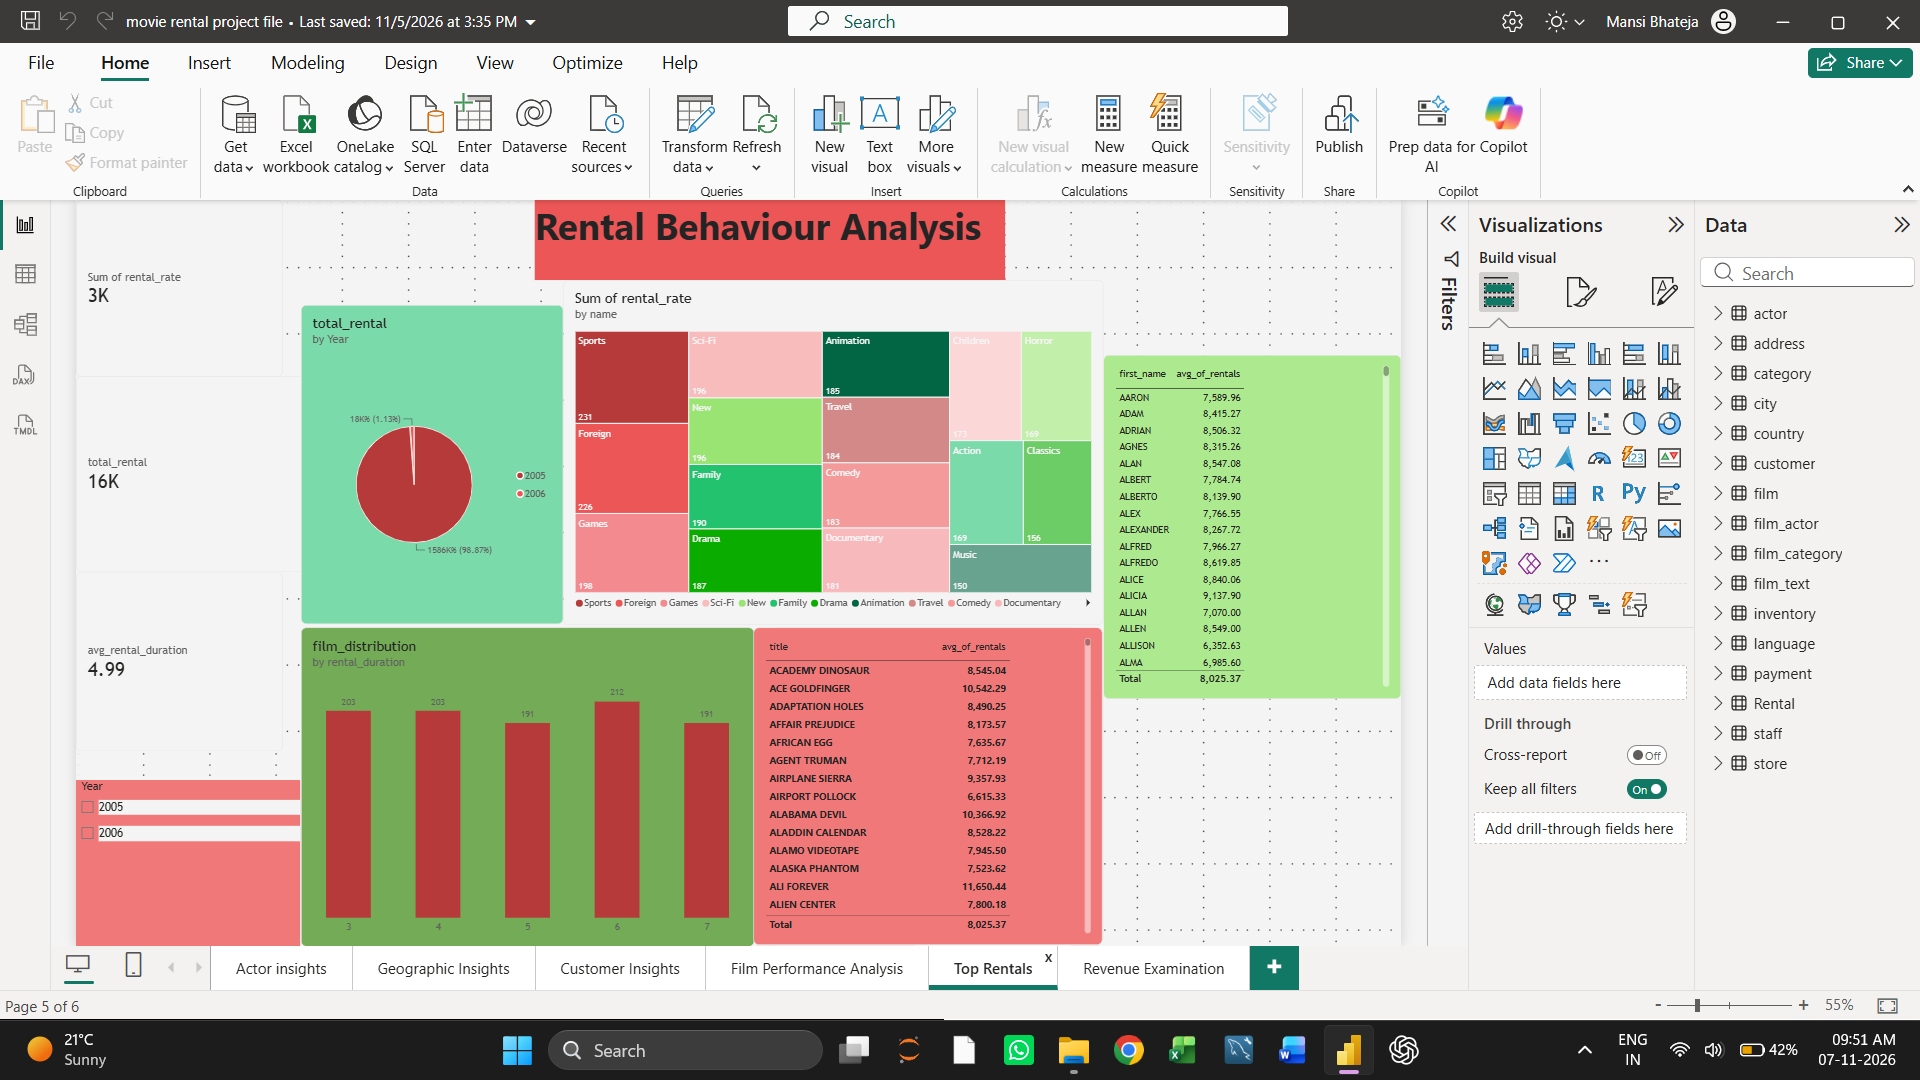

Layout of this report page (visuals, bound fields, positions):
{"tool":"powerbi","page":{"name":"Top Rentals","canvas":[1920,1080],"ordinal":4},"visuals":[{"type":"textbox","box":[665.6,0,681.2,115.6],"z":0},{"type":"cardVisual","fields":{"Data":["film.avg_rental_duration"]},"box":[0,540.6,300,259.4],"z":3},{"type":"cardVisual","fields":{"Data":["Sum(film.rental_rate)"]},"box":[0,0,300,256.2],"z":4},{"type":"cardVisual","fields":{"Data":["Rental.total_rental"]},"box":[0,256.2,340.6,284.4],"z":5},{"type":"slicer","fields":{"Values":["payment.payment_date.Variation.Date Hierarchy.Year"]},"box":[0,841.2,325,240.6],"z":6},{"type":"pieChart","fields":{"Category":["Rental.rental_date.Variation.Date Hierarchy.Year"],"Y":["Rental.total_rental"]},"box":[325.5,152.9,380.4,462.7],"z":7},{"type":"treemap","fields":{"Group":["category.name"],"Values":["Sum(film.rental_rate)"]},"box":[705.9,115.7,782.4,500],"z":8},{"type":"columnChart","fields":{"Category":["film.rental_duration"],"Y":["film.film_distribution"]},"box":[325.5,619.6,656.9,462.7],"z":10},{"type":"tableEx","fields":{"Values":["film.title"]},"box":[1005.9,619.6,452.9,462.7],"z":11},{"type":"tableEx","fields":{"Values":["customer.first_name","Rental.avg_of_rentals"]},"box":[1488.2,225.5,431.4,498],"z":12},{"type":"tableEx","fields":{"Values":["film.title"]},"box":[982.4,619.6,505.9,460.4],"z":13},{"type":"tableEx","fields":{"Values":["film.title","Rental.avg_of_rentals"]},"box":[982.4,619.6,505.9,460.4],"z":14}]}

Visuals, with their boxes on the page's 1920x1080 design canvas (x1, y1, x2, y2). These are canvas units, not pixel positions in the 1920x1080 screenshot, which may show the page scaled, cropped or inside an application window:
textbox: bbox=(666, 0, 1347, 116)
cardVisual - film.avg_rental_duration: bbox=(0, 541, 300, 800)
cardVisual - Sum(film.rental_rate): bbox=(0, 0, 300, 256)
cardVisual - Rental.total_rental: bbox=(0, 256, 341, 541)
slicer - payment.payment_date.Variation.Date Hierarchy.Year: bbox=(0, 841, 325, 1082)
pieChart - Rental.rental_date.Variation.Date Hierarchy.Year x Rental.total_rental: bbox=(326, 153, 706, 616)
treemap - category.name x Sum(film.rental_rate): bbox=(706, 116, 1488, 616)
columnChart - film.rental_duration x film.film_distribution: bbox=(326, 620, 982, 1082)
tableEx - film.title: bbox=(1006, 620, 1459, 1082)
tableEx - customer.first_name x Rental.avg_of_rentals: bbox=(1488, 226, 1920, 724)
tableEx - film.title: bbox=(982, 620, 1488, 1080)
tableEx - film.title x Rental.avg_of_rentals: bbox=(982, 620, 1488, 1080)
